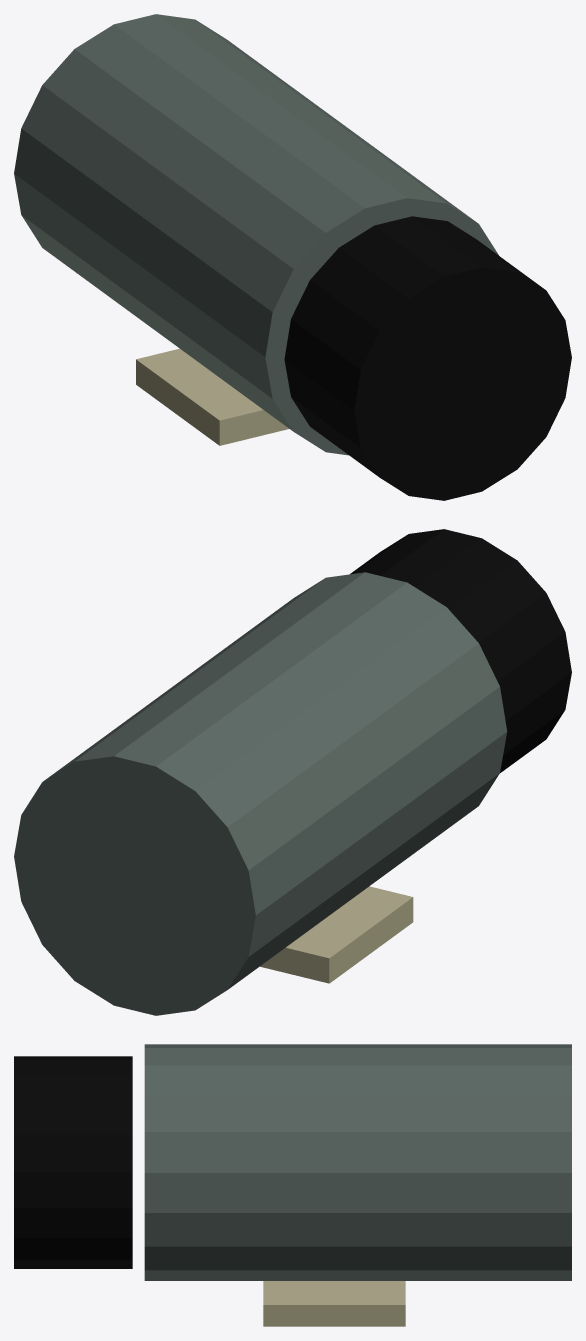
The model's file is antibiotics_bottle.obj.
The picture shows the model from 3 angles, top to bottom: view 1: azimuth 30°, elevation 25°; view 2: azimuth 150°, elevation 25°; view 3: azimuth 270°, elevation 25°; orthographic projection. The views are drawn at different scales.
Parts seen in each view (by area): view 1: antibiotics_bottle; view 2: antibiotics_bottle; view 3: antibiotics_bottle.
Boxes of the visible parts, x1,y1,x2,y2 form: antibiotics_bottle: [14, 14, 571, 500]; antibiotics_bottle: [14, 529, 571, 1015]; antibiotics_bottle: [14, 1044, 571, 1326].
Size of the model in its own units: 0.2 by 0.2135 by 0.47.
